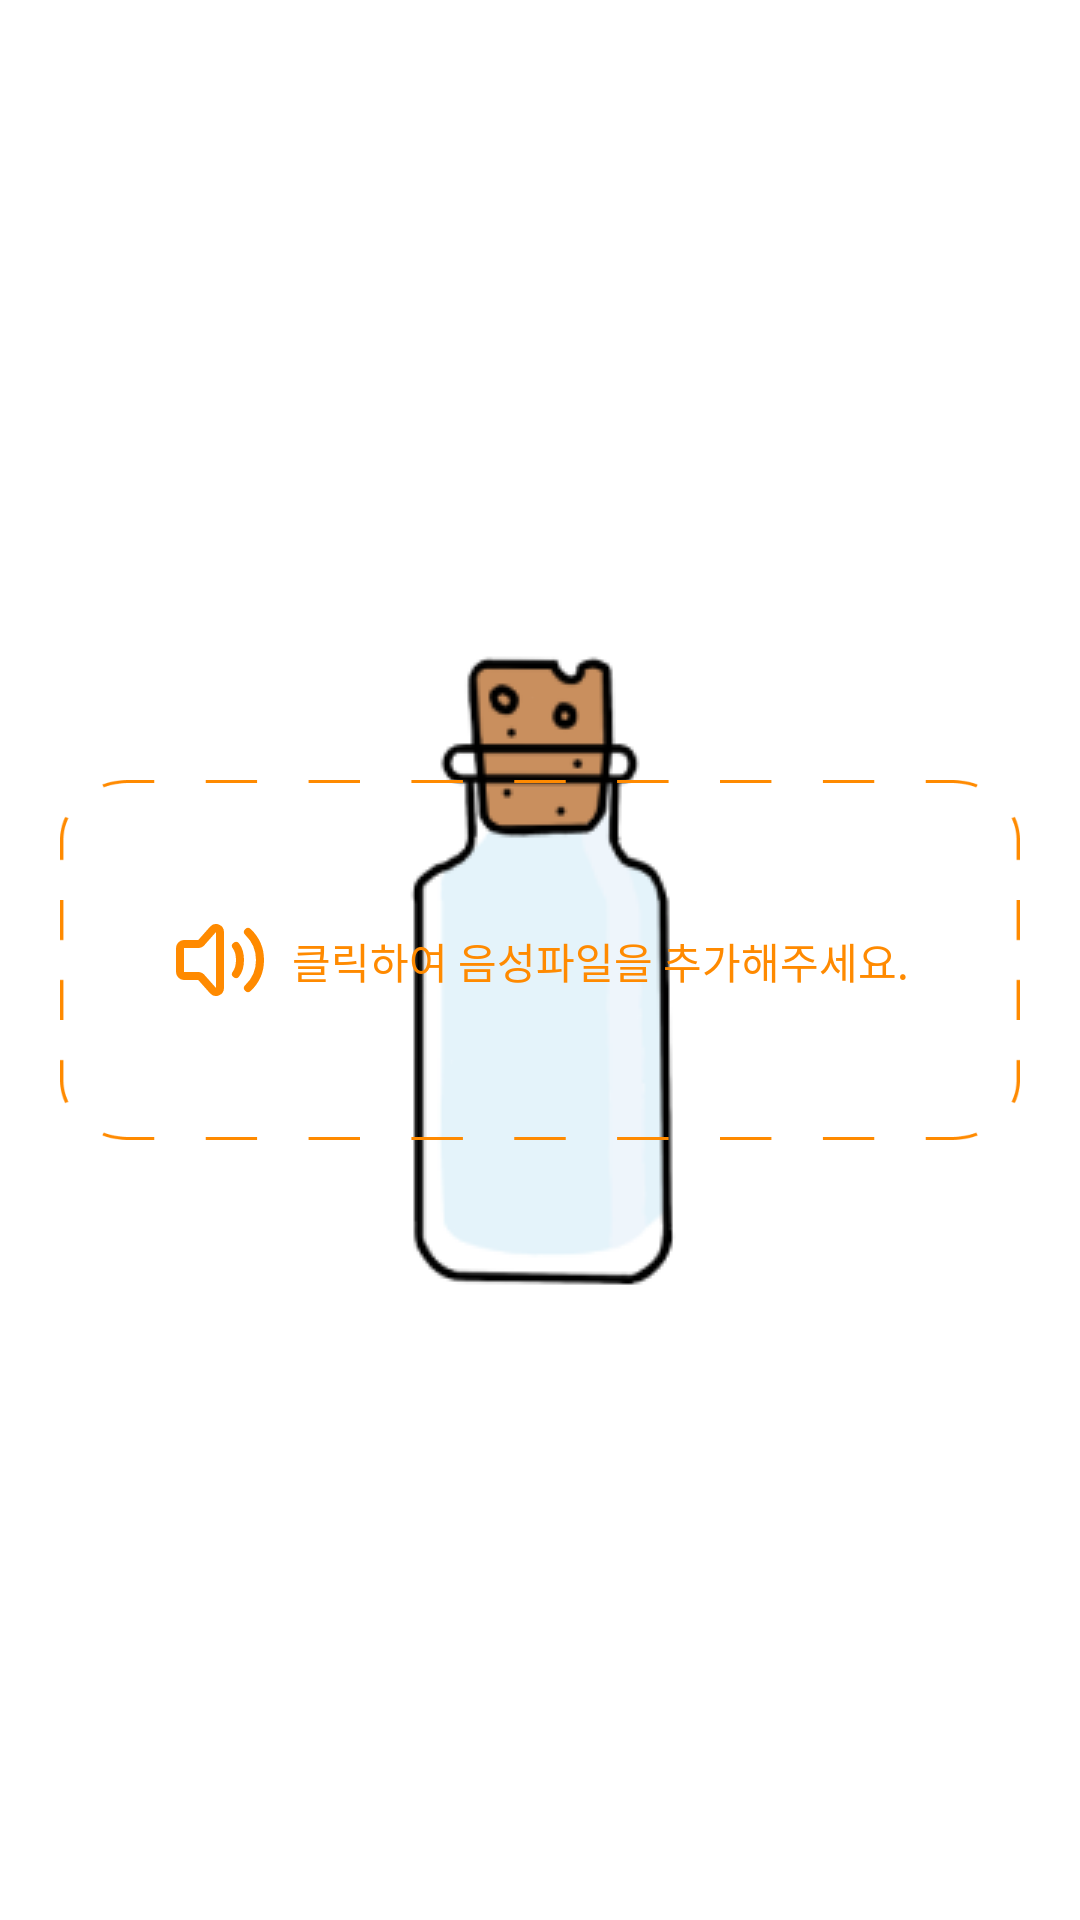

Point at icon controls on the screen. Image size 1080w x 1920h, points as point (x, y).
sound: point (220, 960)
